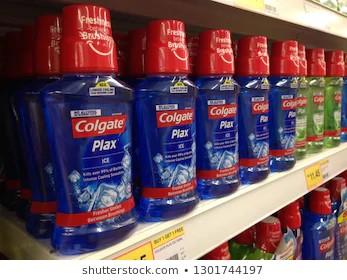colgate-Plax: (39, 8, 140, 250), (135, 8, 203, 227), (195, 27, 243, 199), (239, 32, 271, 185), (274, 38, 298, 171), (299, 187, 338, 259)
